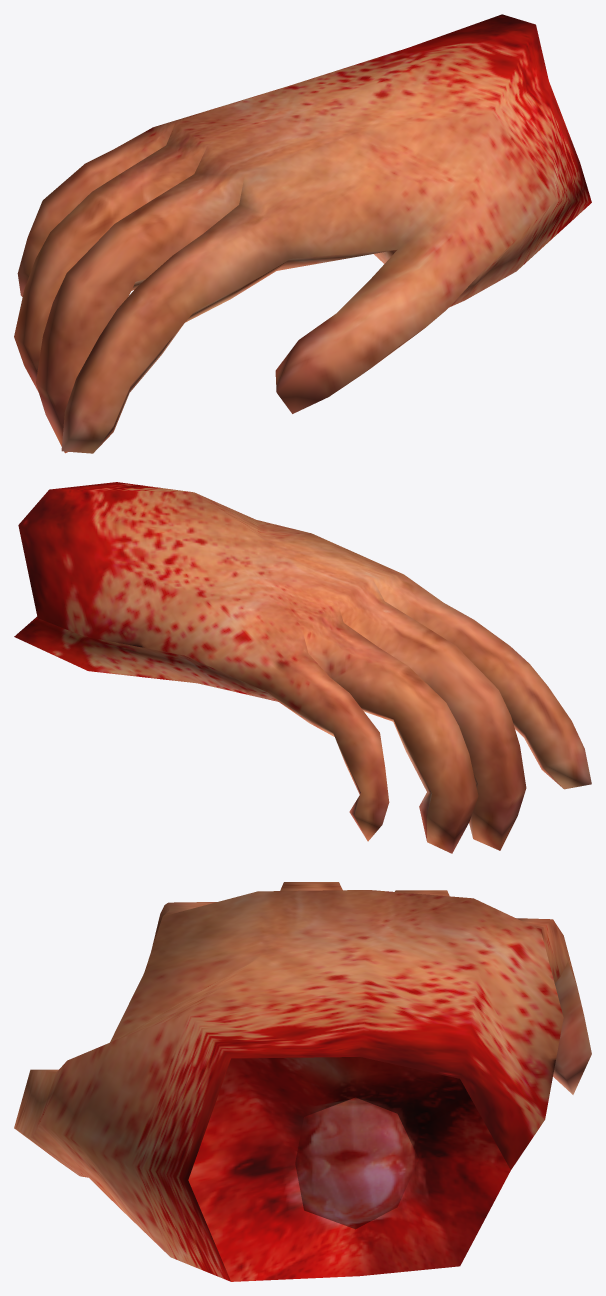
File: female_rt_hand.fbx
The picture shows the model from 3 angles, top to bottom: view 1: azimuth 30°, elevation 25°; view 2: azimuth 150°, elevation 25°; view 3: azimuth 270°, elevation 25°; orthographic projection. The views are drawn at different scales.
Parts seen in each view (by area): view 1: fm_rt_hand_gib; view 2: fm_rt_hand_gib; view 3: fm_rt_hand_gib.
Part boxes in pixels (x1=…): fm_rt_hand_gib: x1=14, y1=14, x2=591, y2=453; fm_rt_hand_gib: x1=14, y1=482, x2=591, y2=853; fm_rt_hand_gib: x1=14, y1=882, x2=591, y2=1281.
Bounding box in the file's own units: 0.1908 × 0.0982 × 0.1185.
